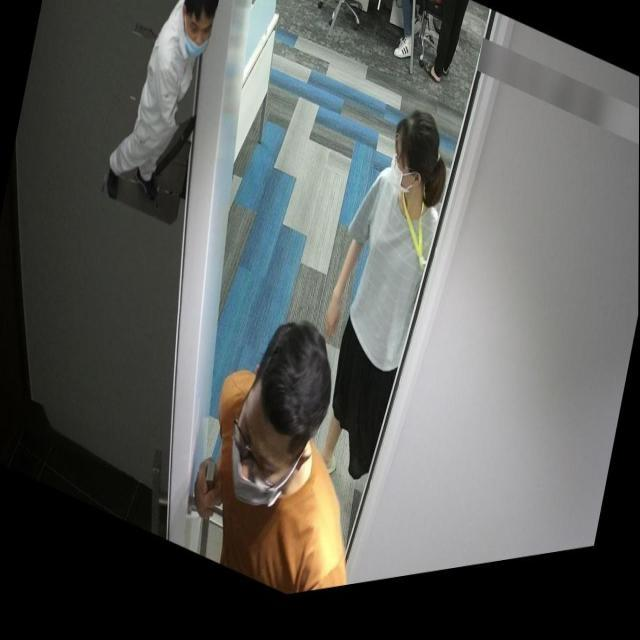hairnet: (180, 0, 218, 72)
